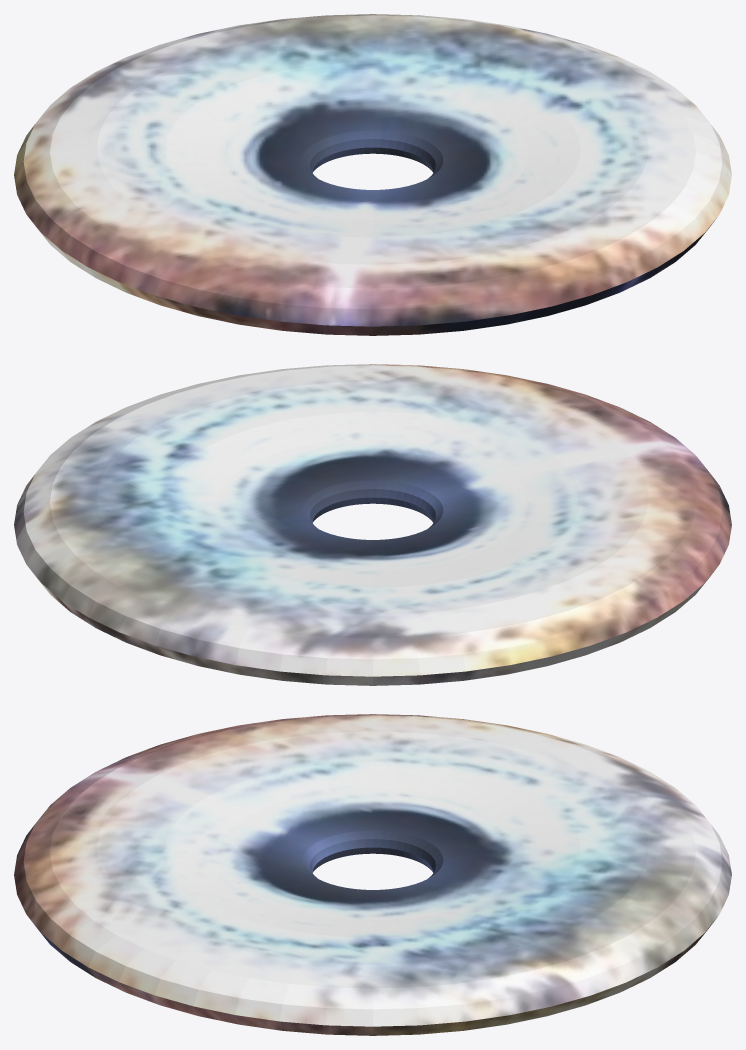
Rendered from AgujeroNegro.fbx.
3 views of the same model, one above another, from view 1: azimuth 30°, elevation 25°; view 2: azimuth 150°, elevation 25°; view 3: azimuth 270°, elevation 25° (orthographic).
Parts seen in each view (by area): view 1: Torus; view 2: Torus; view 3: Torus.
Boxes of the visible parts, bbox=[...] form: Torus: bbox=[14, 14, 731, 335]; Torus: bbox=[14, 364, 731, 685]; Torus: bbox=[14, 714, 731, 1035].
Bounding box in the file's own units: 283 × 23.23 × 283.
Materials: 1 (1 with a texture image).
